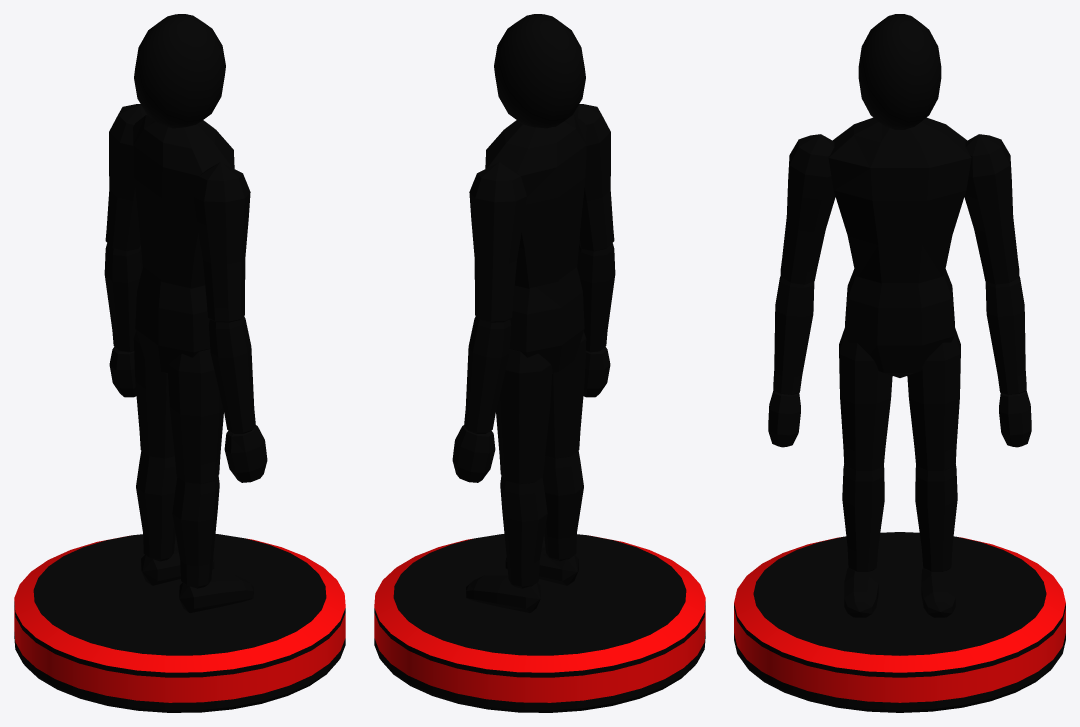
Rendered from SM_PlaceholderMannequin.fbx.
3 renders of one model, left to right at view 1: azimuth 30°, elevation 25°; view 2: azimuth 150°, elevation 25°; view 3: azimuth 270°, elevation 25°, orthographic.
Visible parts, largest first — view 1: SM_PlaceholderMannequin; view 2: SM_PlaceholderMannequin; view 3: SM_PlaceholderMannequin.
Boxes of the visible parts, x1=… form: SM_PlaceholderMannequin: x1=14, y1=14, x2=345, y2=712; SM_PlaceholderMannequin: x1=374, y1=14, x2=705, y2=712; SM_PlaceholderMannequin: x1=734, y1=14, x2=1065, y2=712.
Size of what is drawn, in the model's own units: 24 by 24 by 50.
